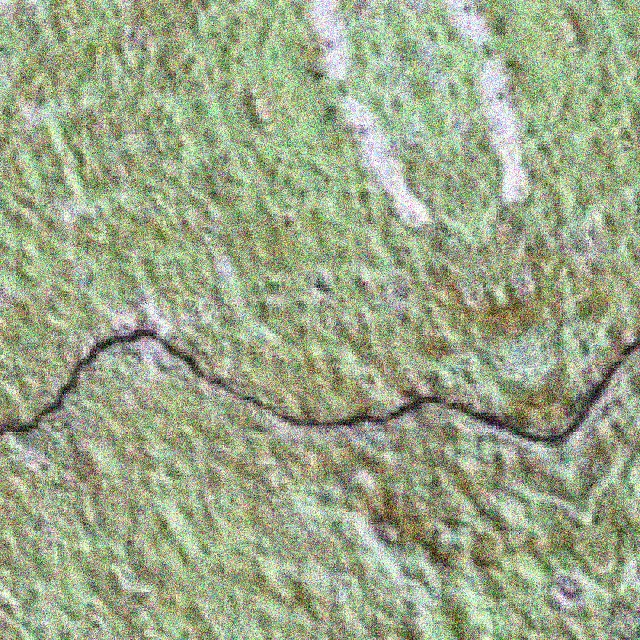SurfaceCrack: (6, 290, 640, 484)
